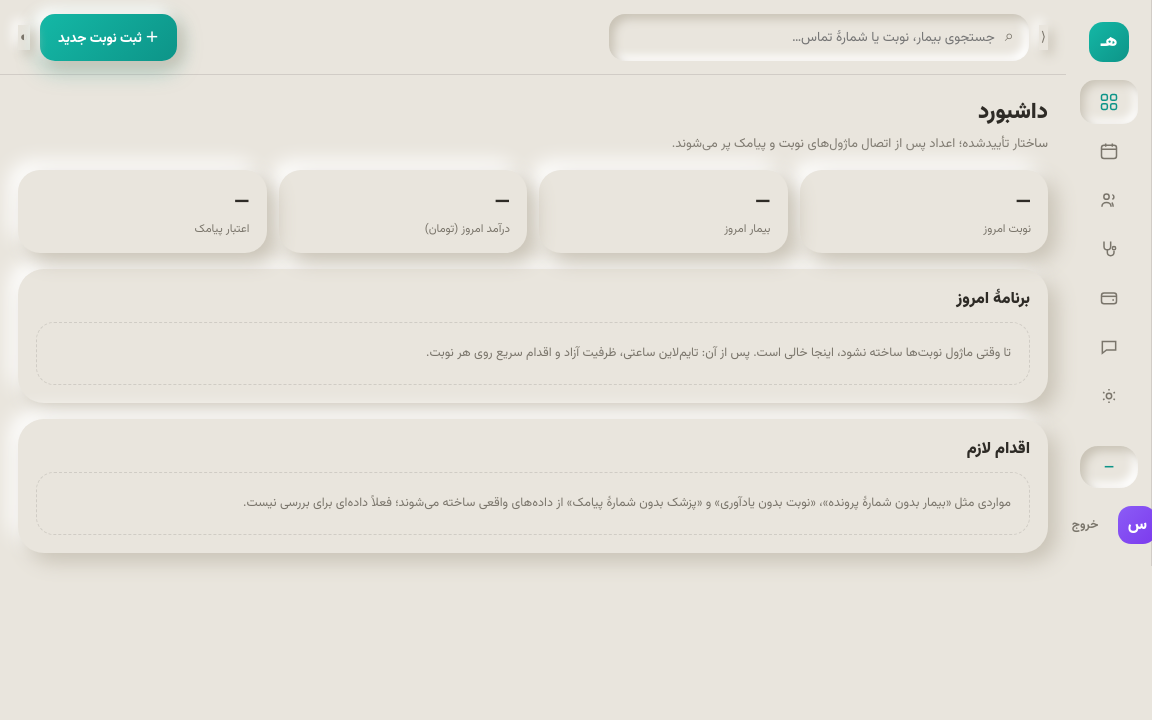
PanelShell chrome › starts collapsed and expands on the top-bar toggle
Step 1. Click the button named "باز یا بستن منو" → coordinates (1043, 38), box [1039,25,1048,50]
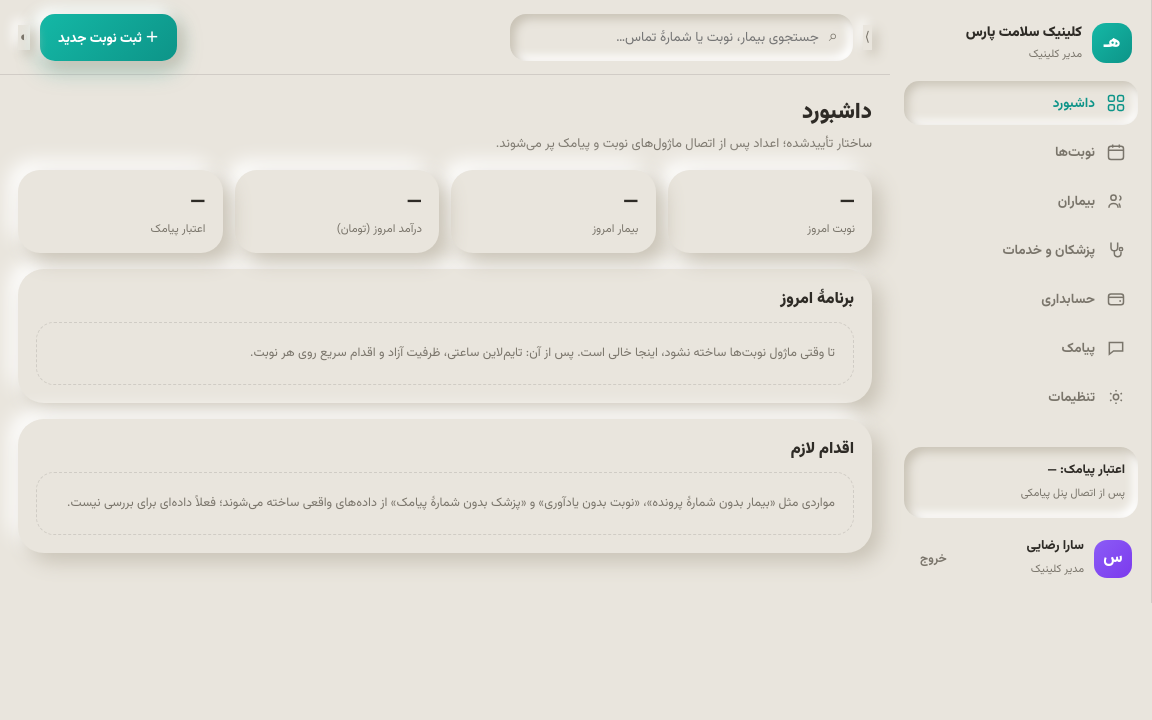
Result: the button named "باز یا بستن منو" is expanded at [863,25,872,50]
